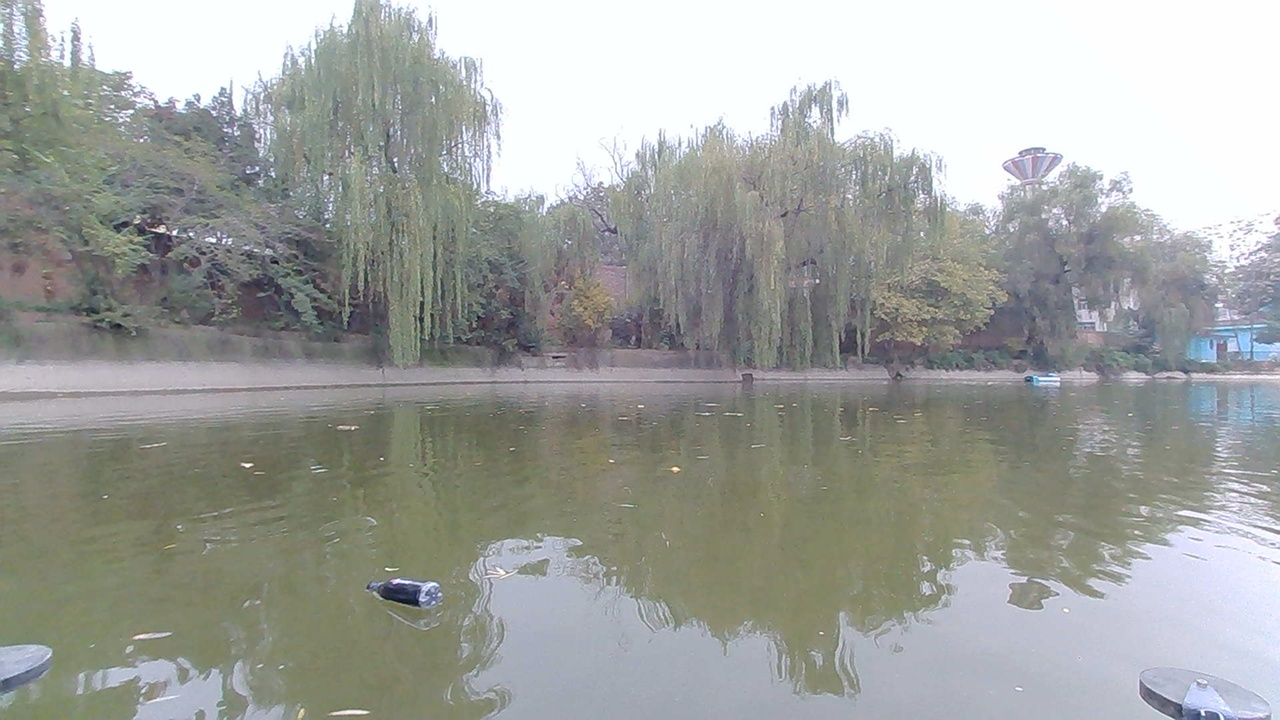bottle: (384, 579, 438, 613)
